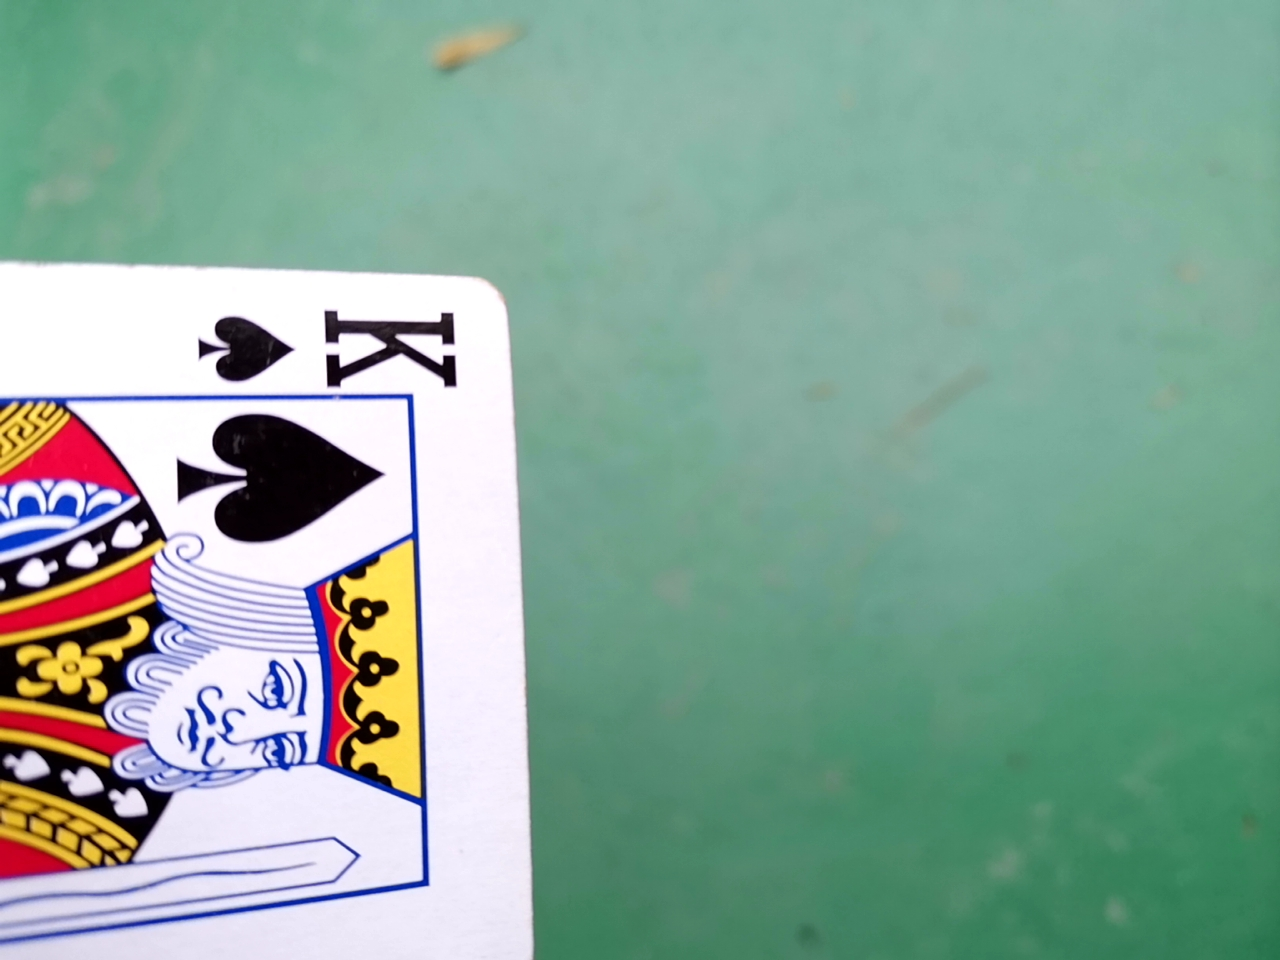ht k: (5, 245, 534, 951)
